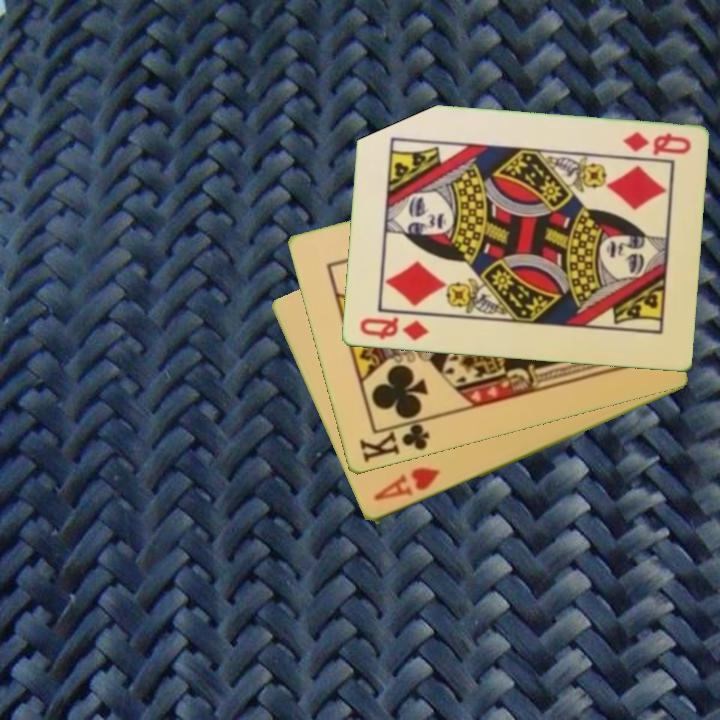Ah: (370, 464, 442, 505)
Kc: (355, 416, 433, 466)
Qd: (356, 313, 432, 344), (619, 128, 694, 159)
